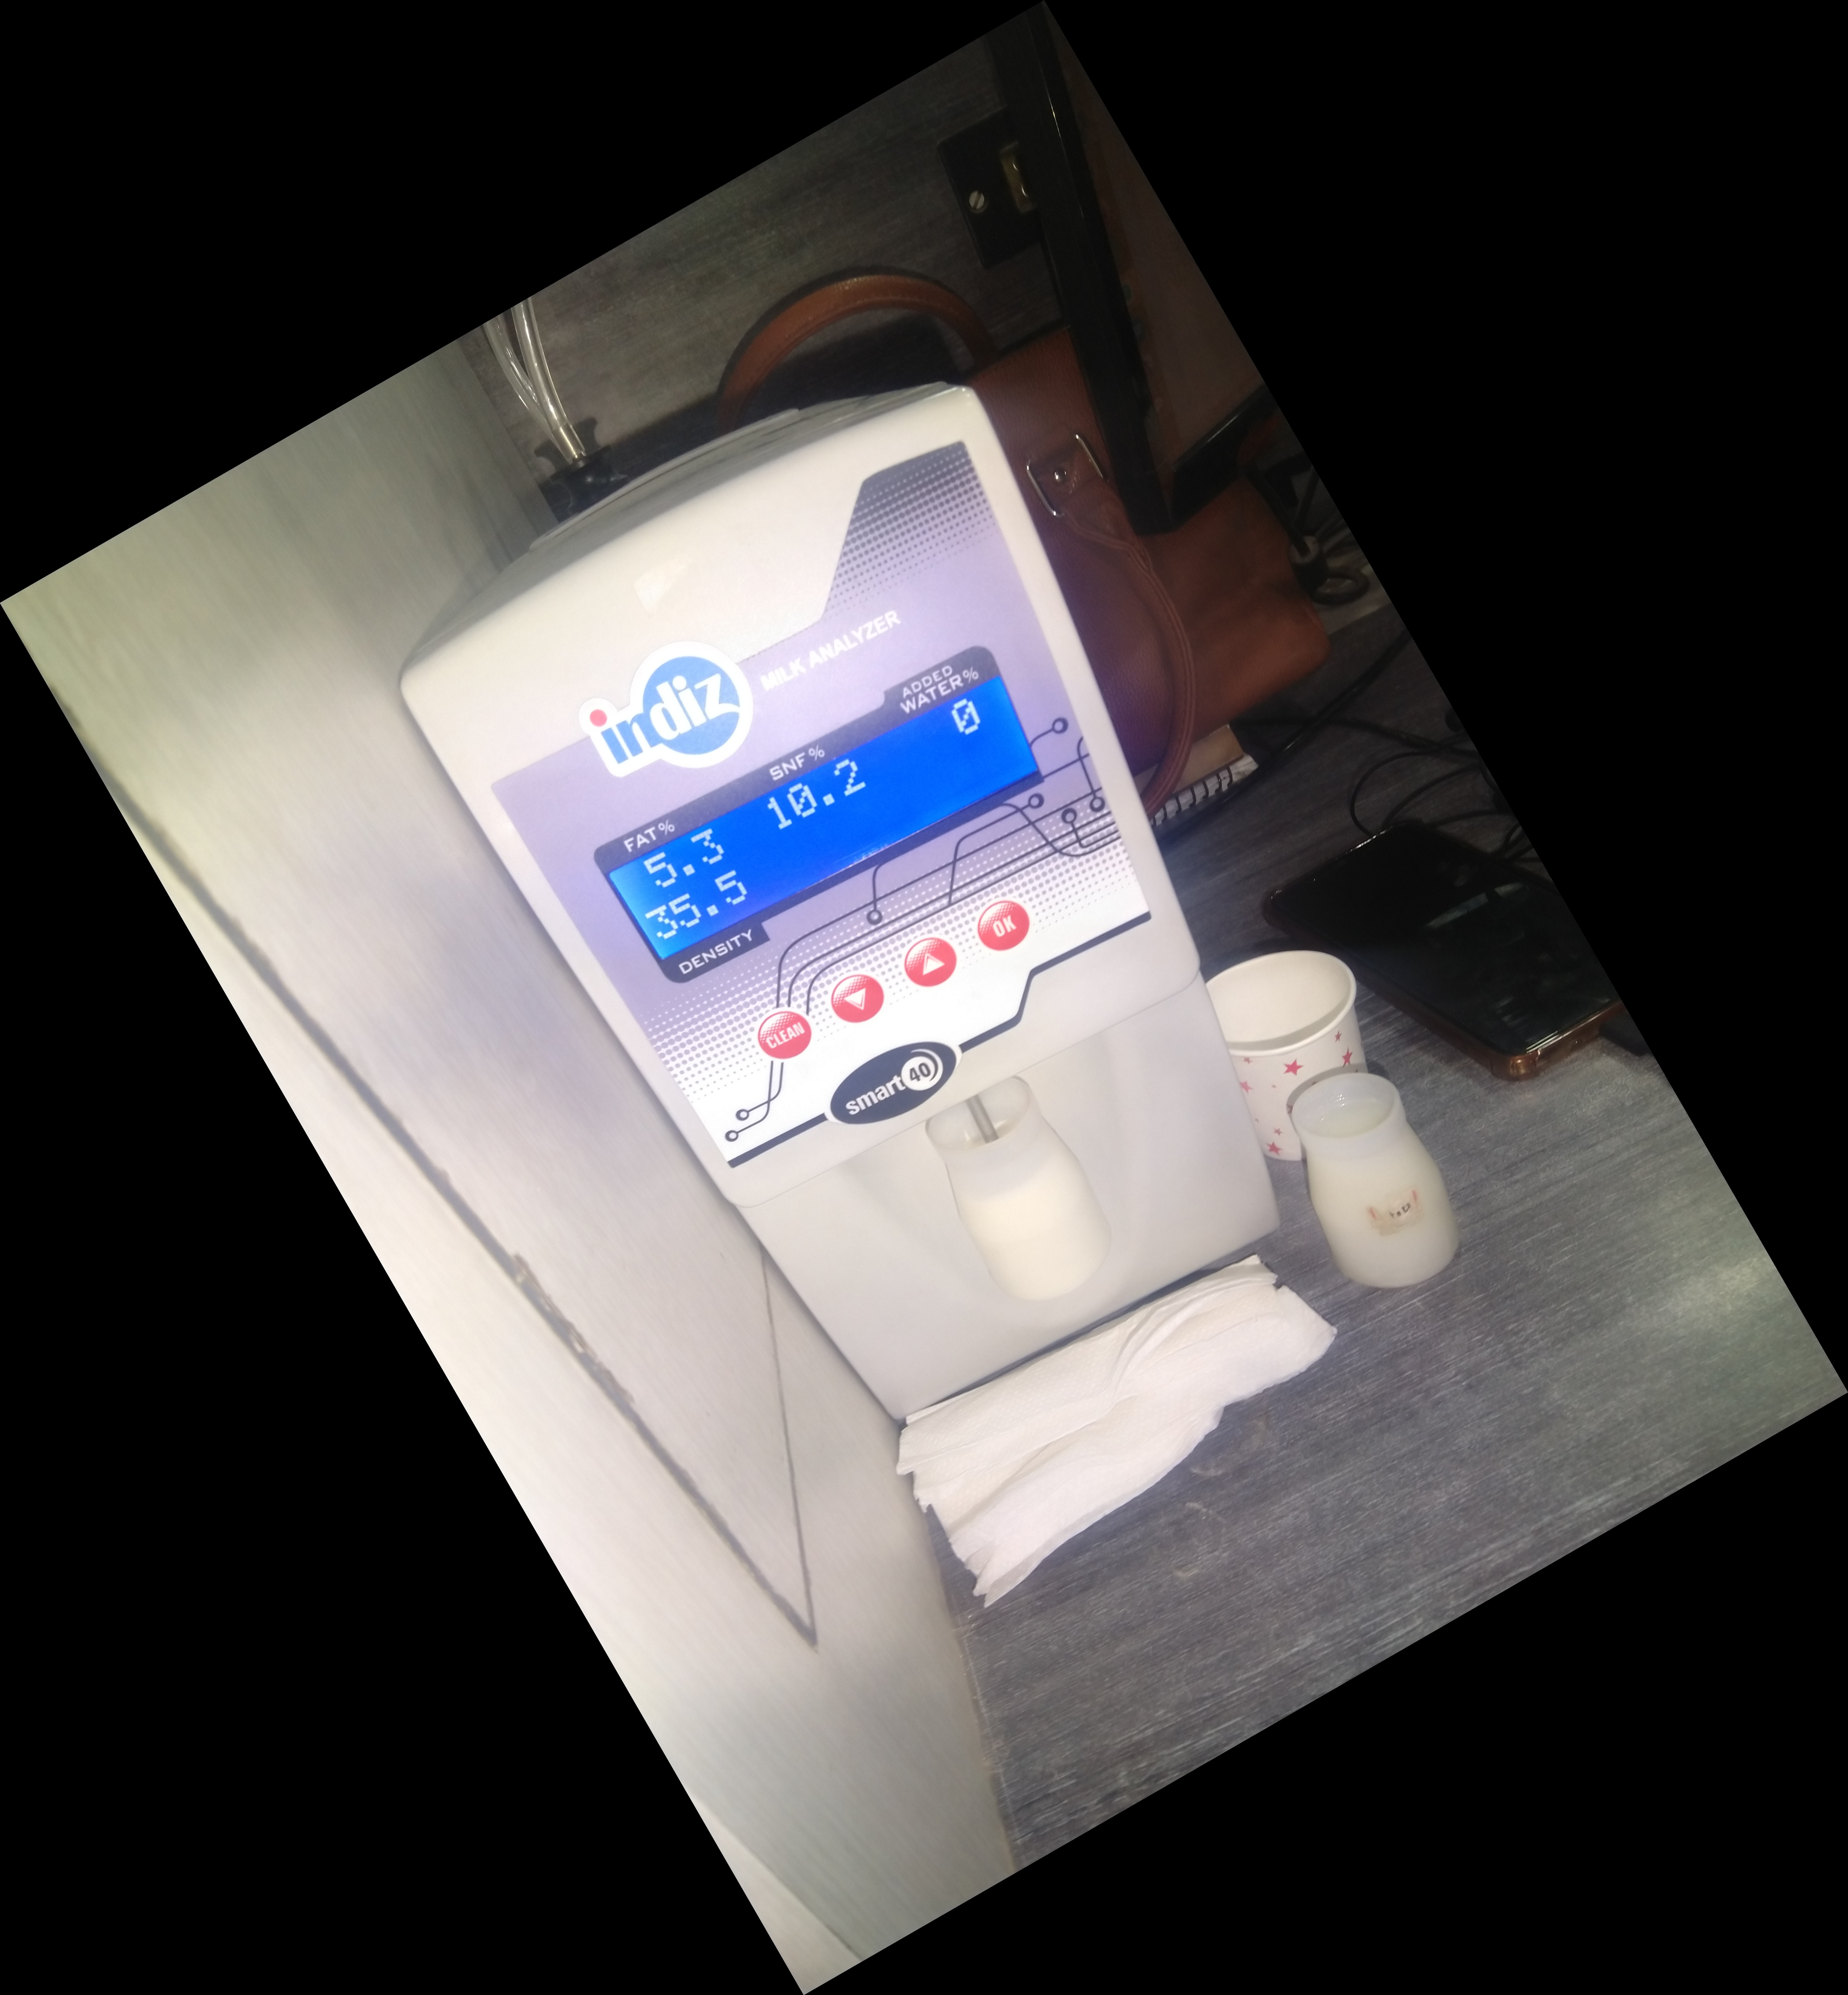lcd: (589, 645, 1059, 991)
